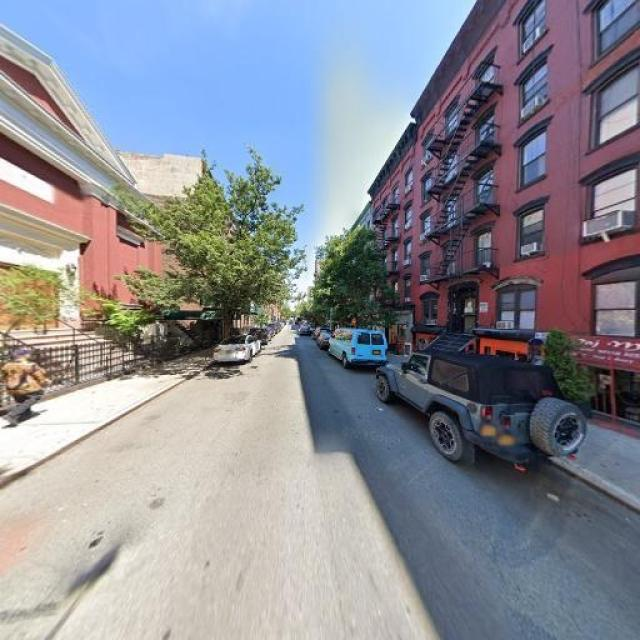Building: (418, 1, 560, 402), (1, 85, 159, 383), (567, 1, 640, 427)
